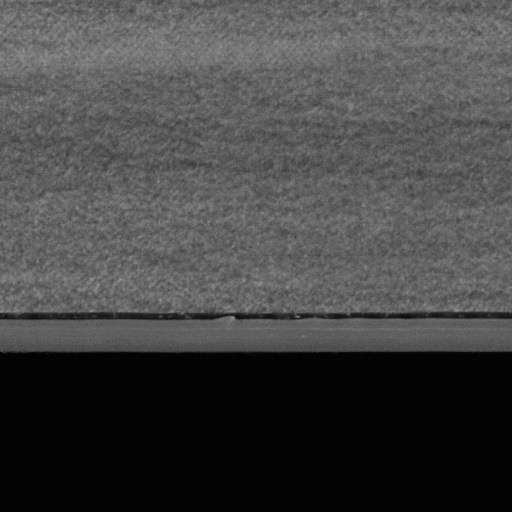jiaofeng: (0, 305, 511, 337)
